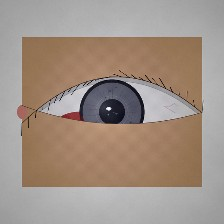hemorrhage_spot: (45, 97, 116, 153)
